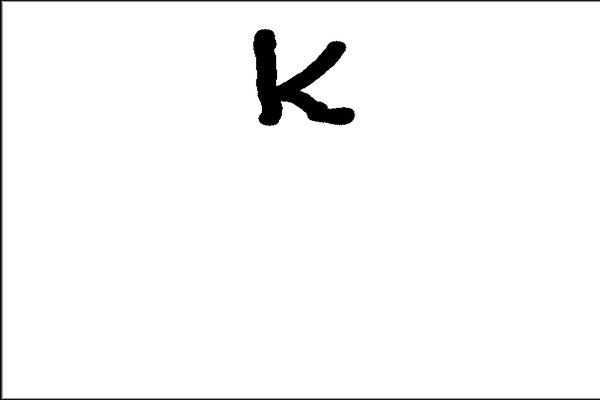K: (243, 20, 362, 132)
